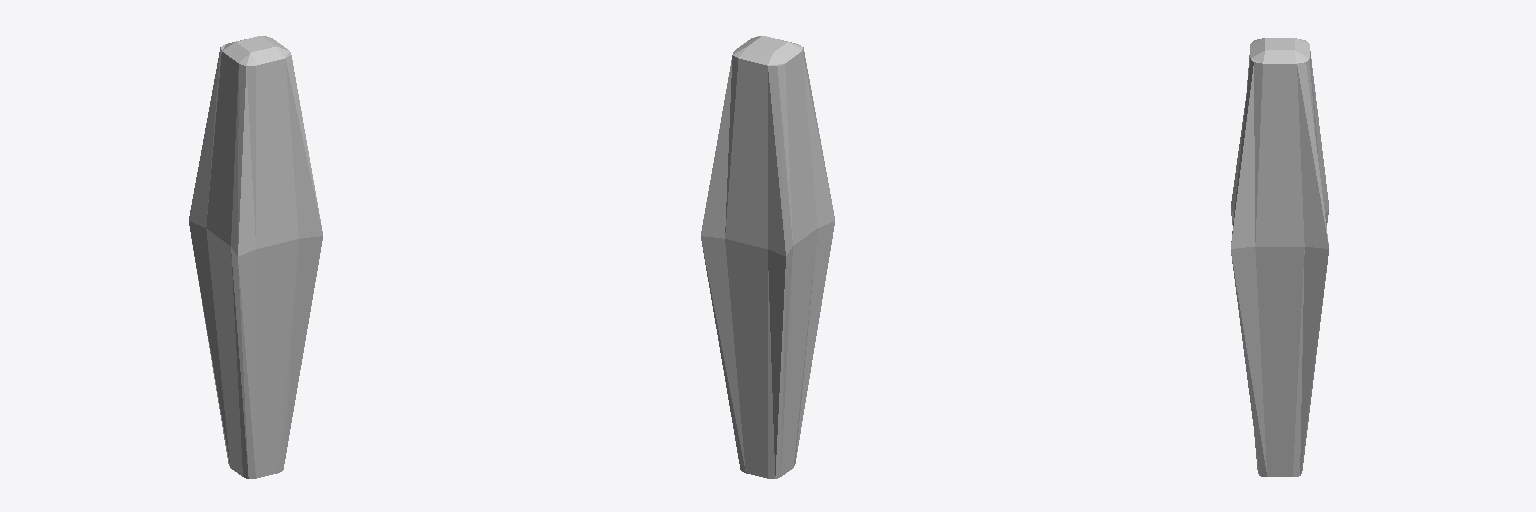
The model's file is cactus3.obj.
The picture shows the model from 3 angles: view 1: azimuth 30°, elevation 25°; view 2: azimuth 150°, elevation 25°; view 3: azimuth 270°, elevation 25°; orthographic projection.
Visible parts, largest first — view 1: Cube_Cube.001; view 2: Cube_Cube.001; view 3: Cube_Cube.001.
Boxes of the visible parts, x1,y1,x2,y2 form: Cube_Cube.001: [189, 36, 322, 478]; Cube_Cube.001: [701, 36, 834, 478]; Cube_Cube.001: [1231, 38, 1328, 476].
Size of the model in its own units: 0.233 by 1.1 by 0.233.